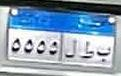5: (23, 37, 35, 55), (10, 37, 22, 55), (35, 39, 47, 56), (48, 40, 59, 58)
Taa: (80, 40, 95, 63)
baa: (96, 45, 112, 64)
laam: (64, 37, 78, 61)
